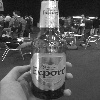beer: (30, 1, 67, 98)
